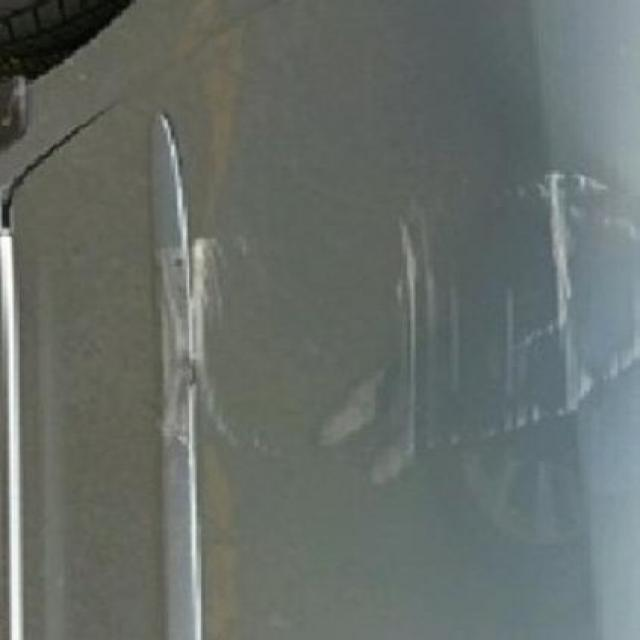scratch: (133, 158, 630, 506)
